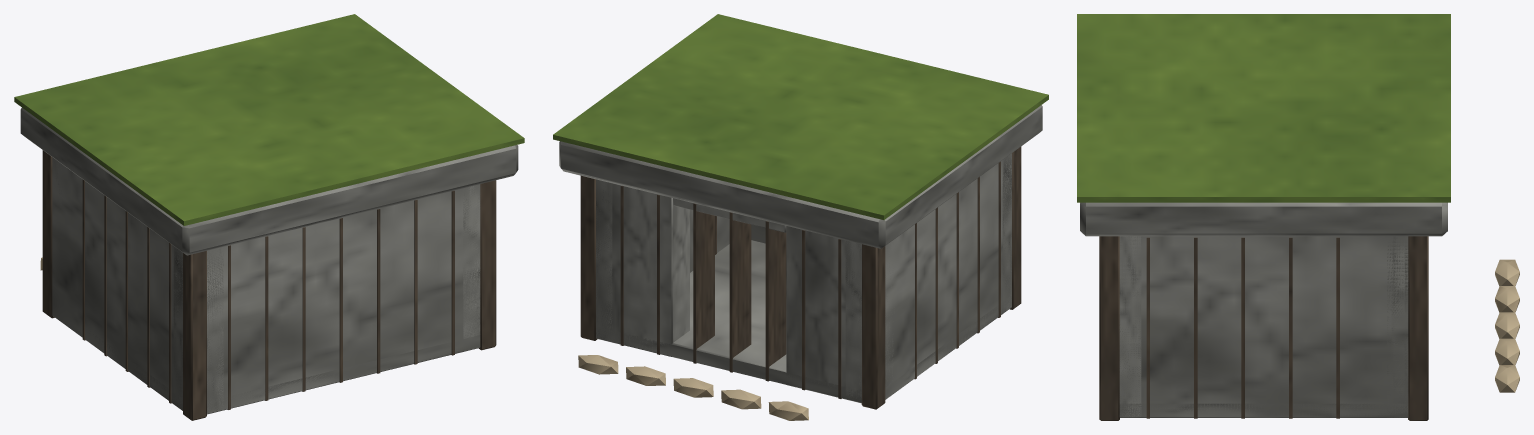
Rendered from SM_POI_Bunker.fbx.
3 views of the same model, side by side, from view 1: azimuth 30°, elevation 25°; view 2: azimuth 150°, elevation 25°; view 3: azimuth 270°, elevation 25° (orthographic). The views are drawn at different scales.
Visible parts, largest first — view 1: SM_POI_Bunker; view 2: SM_POI_Bunker; view 3: SM_POI_Bunker.
Boxes of the visible parts, x1,y1,x2,y2 form: SM_POI_Bunker: (14, 14, 524, 420); SM_POI_Bunker: (553, 14, 1048, 420); SM_POI_Bunker: (1077, 14, 1519, 420).
Bounding box in the file's own units: 14.6 × 8.7 × 14.92.
Materials: 1 (1 with a texture image).
